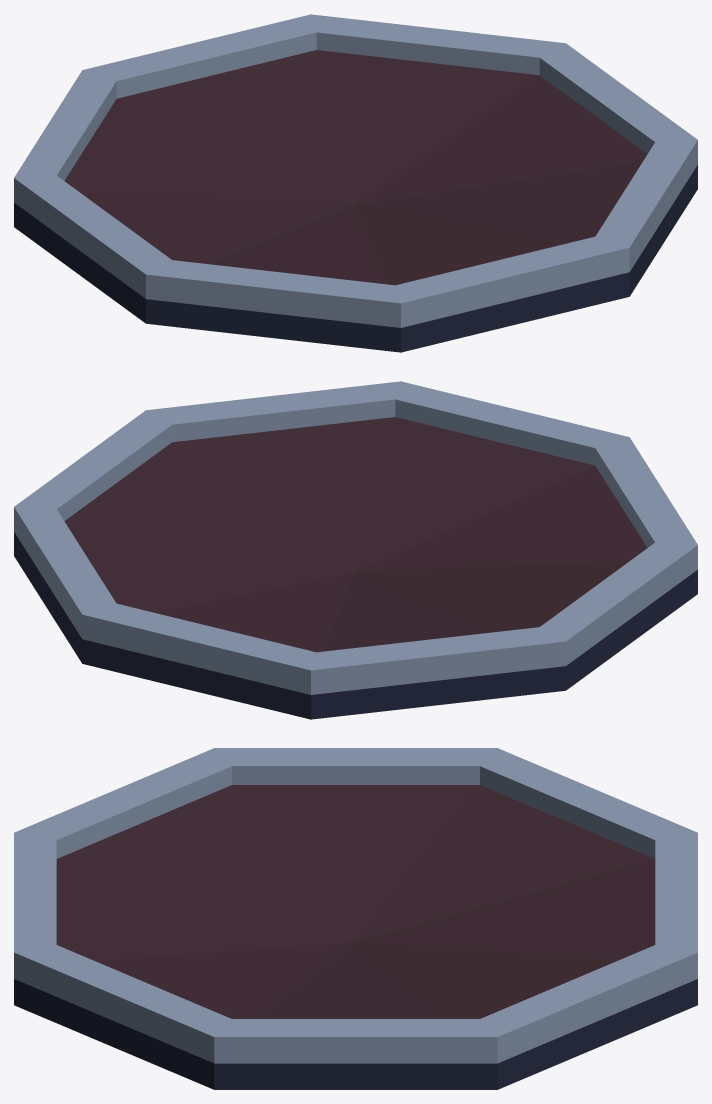
The model's file is buckler.glb.
3 renders of one model, top to bottom at view 1: azimuth 30°, elevation 25°; view 2: azimuth 150°, elevation 25°; view 3: azimuth 270°, elevation 25°, orthographic. The views are drawn at different scales.
Visible parts, largest first — view 1: Buckler; view 2: Buckler; view 3: Buckler.
Boxes of the visible parts, x1,y1,x2,y2 form: Buckler: (14, 14, 697, 352); Buckler: (14, 381, 697, 719); Buckler: (14, 748, 697, 1089).
Bounding box in the file's own units: 0.9479 × 0.2139 × 0.9479.
1 material, 1 textured.
